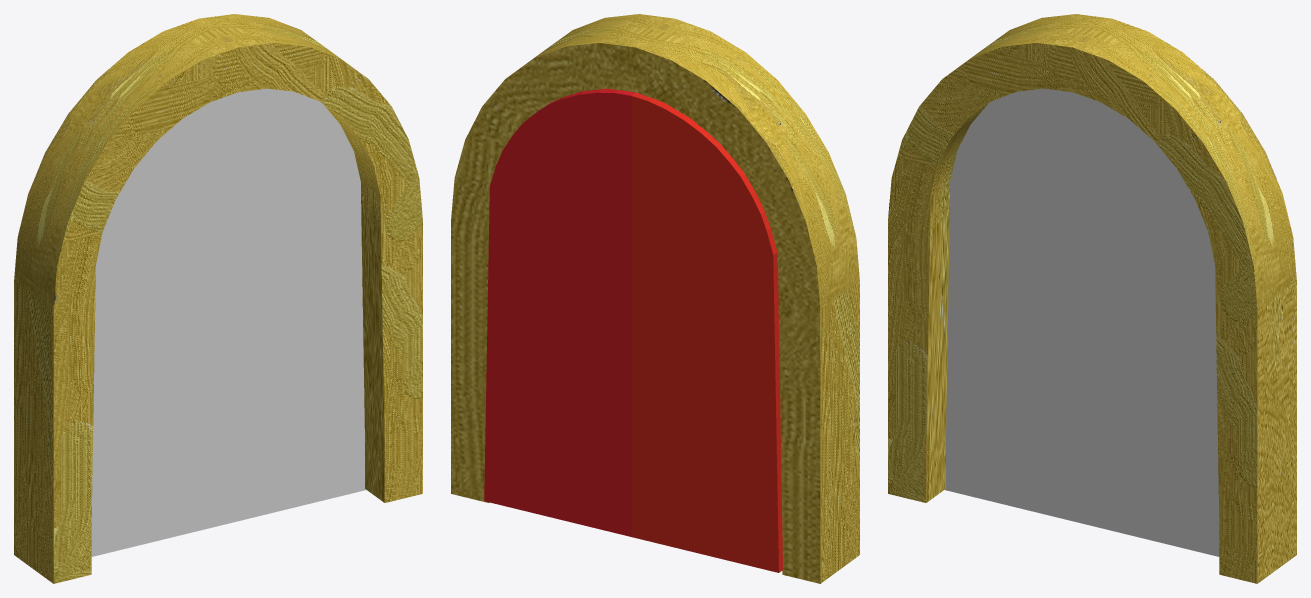
The model's file is Portal_Adjusted.fbx.
The picture shows the model from 3 angles, left to right: view 1: azimuth 30°, elevation 25°; view 2: azimuth 150°, elevation 25°; view 3: azimuth 330°, elevation 25°; orthographic projection.
Parts seen in each view (by area): view 1: PortalGraphxPlane, DoorFrame; view 2: DoorFrame, DoorRight, DoorLeft; view 3: PortalGraphxPlane, DoorFrame.
Boxes of the visible parts, x1,y1,x2,y2 form: PortalGraphxPlane: [91, 88, 366, 556]; DoorFrame: [14, 14, 422, 583]; DoorFrame: [451, 14, 859, 583]; DoorRight: [631, 92, 782, 572]; DoorLeft: [484, 88, 635, 536]; PortalGraphxPlane: [944, 88, 1219, 556]; DoorFrame: [888, 14, 1296, 583].
Size of the model in its own units: 2.18 by 2.79 by 0.4474.
4 materials, 1 textured.
